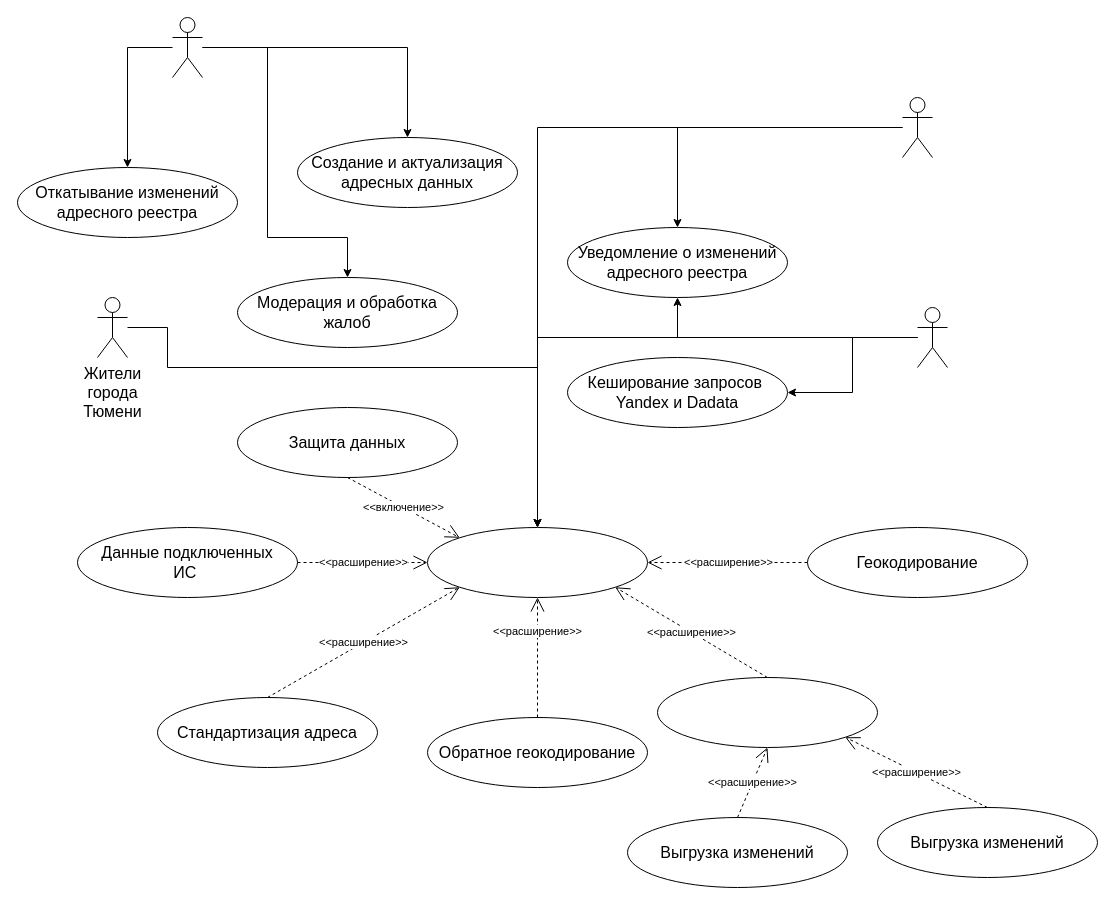
The diagram is 1115 pixels wide and 905 high, and some of its shapes have lost their labels. The centre of each missing label's shape, as x and y in pixels:
"Выгрузка данных" goes at point (767, 712).
"Запрос на данные через API адресного реестра" goes at point (537, 562).
"Модераторы" goes at point (187, 47).
"Разработчики комитета" goes at point (932, 337).
"Системы городской инфраструктуры" goes at point (917, 127).
